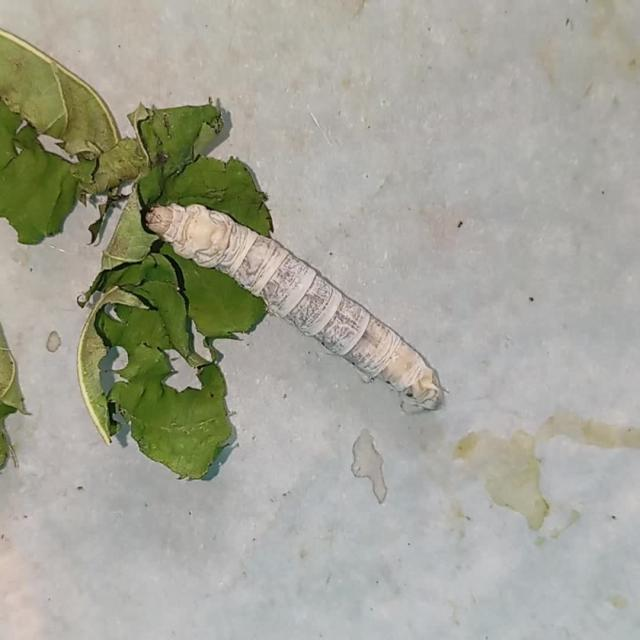Grasserie: (122, 183, 458, 432)
